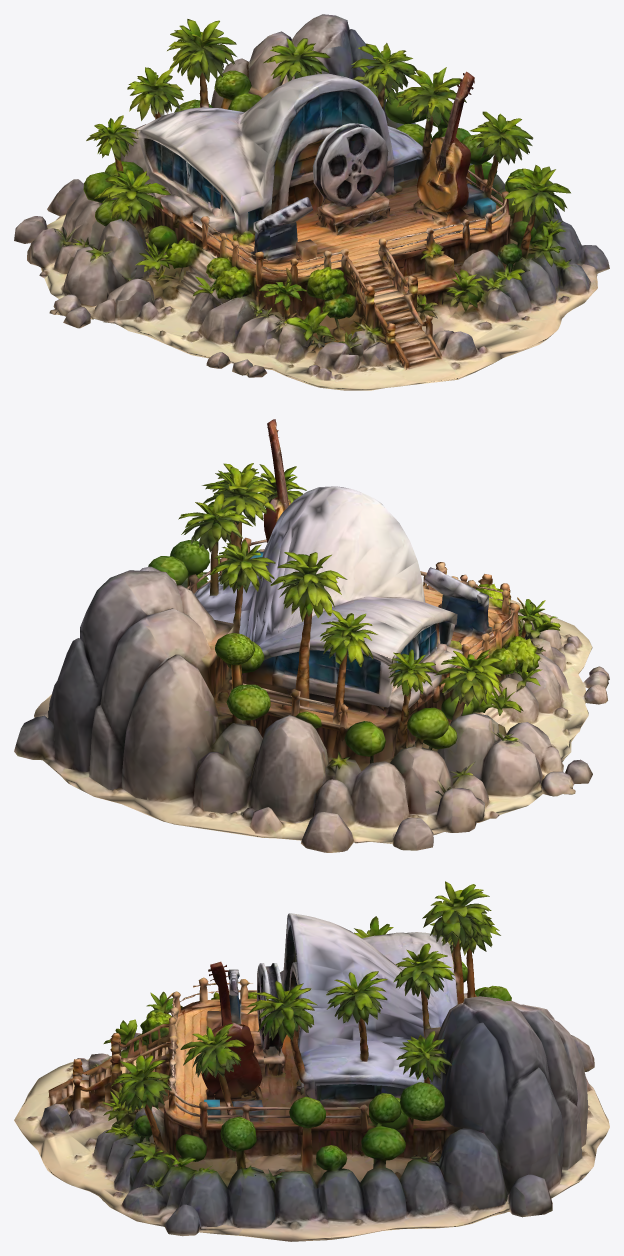
The model's file is royalties.glb.
3 renders of one model, top to bottom at view 1: azimuth 30°, elevation 25°; view 2: azimuth 150°, elevation 25°; view 3: azimuth 270°, elevation 25°, orthographic. The views are drawn at different scales.
Parts seen in each view (by area): view 1: tripo_node_6ff895df-f4a9-4c66-b85c-bcb3e7f45d59; view 2: tripo_node_6ff895df-f4a9-4c66-b85c-bcb3e7f45d59; view 3: tripo_node_6ff895df-f4a9-4c66-b85c-bcb3e7f45d59.
Boxes of the visible parts, box(x1,y1,x2,y2) form: tripo_node_6ff895df-f4a9-4c66-b85c-bcb3e7f45d59: box(14, 14, 609, 390); tripo_node_6ff895df-f4a9-4c66-b85c-bcb3e7f45d59: box(14, 419, 609, 852); tripo_node_6ff895df-f4a9-4c66-b85c-bcb3e7f45d59: box(14, 881, 609, 1241).
Bounding box in the file's own units: 0.9357 × 0.3899 × 0.9797.
1 material, 1 textured.
